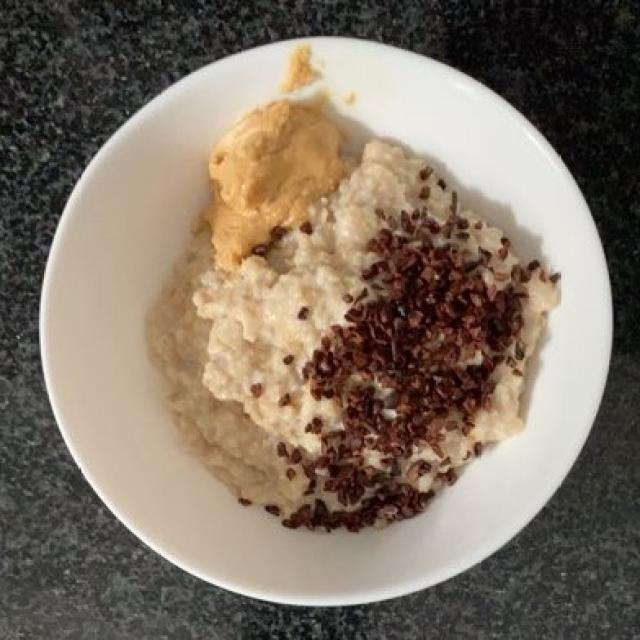peanut-butter: (207, 103, 345, 256)
porridge: (154, 136, 548, 529)
